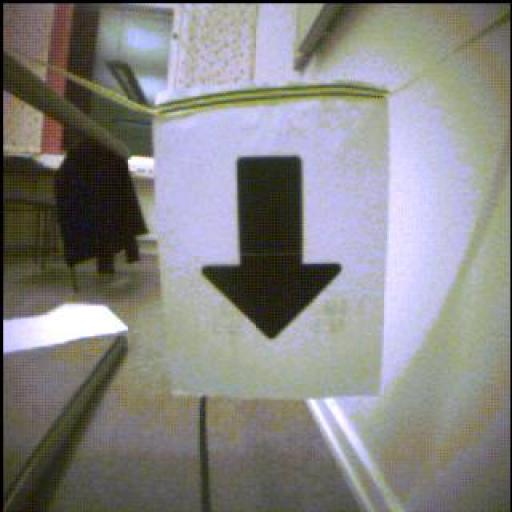Arrow: (204, 158, 342, 339)
